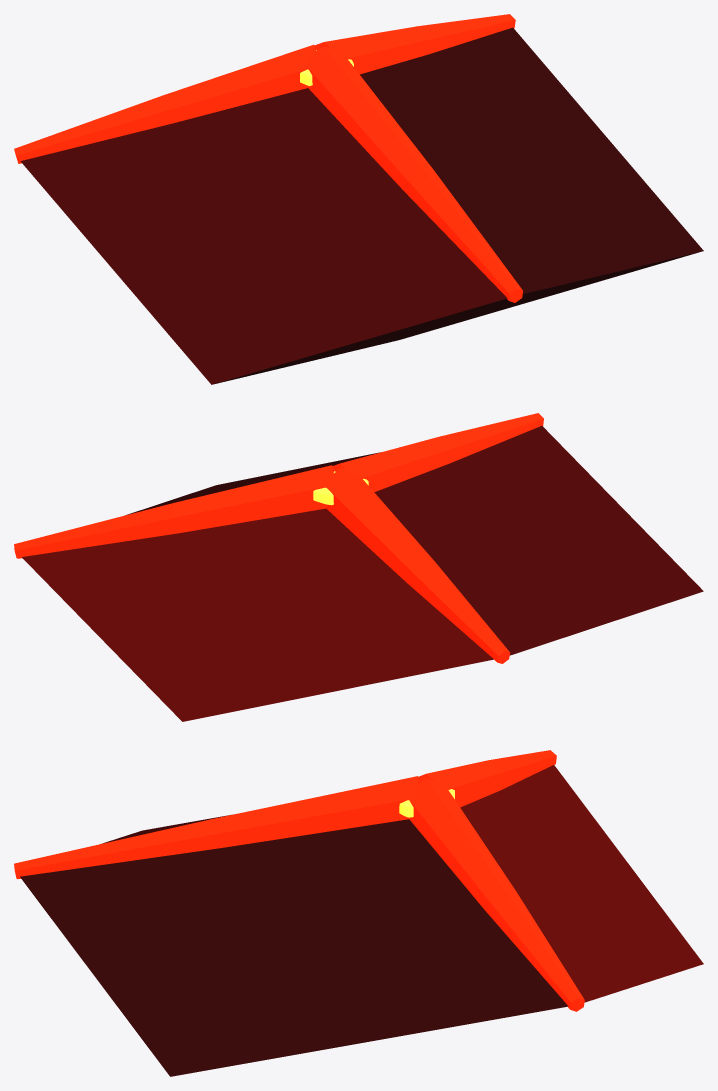
The model's file is newshg-77-f5.glb.
3 views of the same model, one above another, from view 1: azimuth 30°, elevation 25°; view 2: azimuth 150°, elevation 25°; view 3: azimuth 270°, elevation 25° (orthographic). The views are drawn at different scales.
Visible parts, largest first — view 1: newshg-77-f5; view 2: newshg-77-f5; view 3: newshg-77-f5.
Part boxes in pixels (left/top/right/bottom): newshg-77-f5: left=14, top=14, right=703, bottom=384; newshg-77-f5: left=14, top=413, right=703, bottom=721; newshg-77-f5: left=14, top=750, right=703, bottom=1076.
Bounding box in the file's own units: 1.42 × 0.6612 × 1.64.
